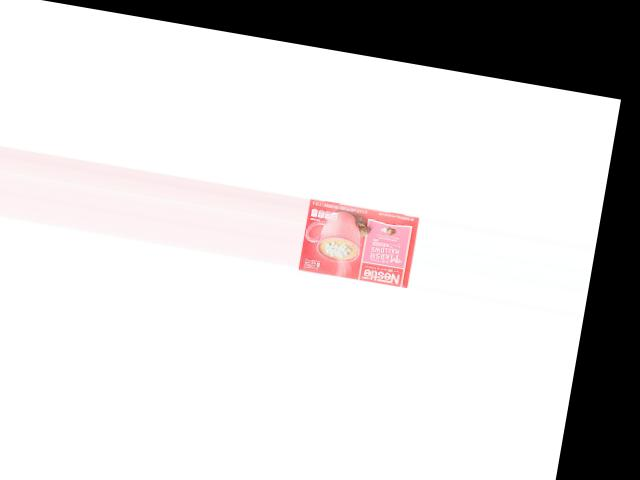chocolate: (297, 194, 417, 285)
